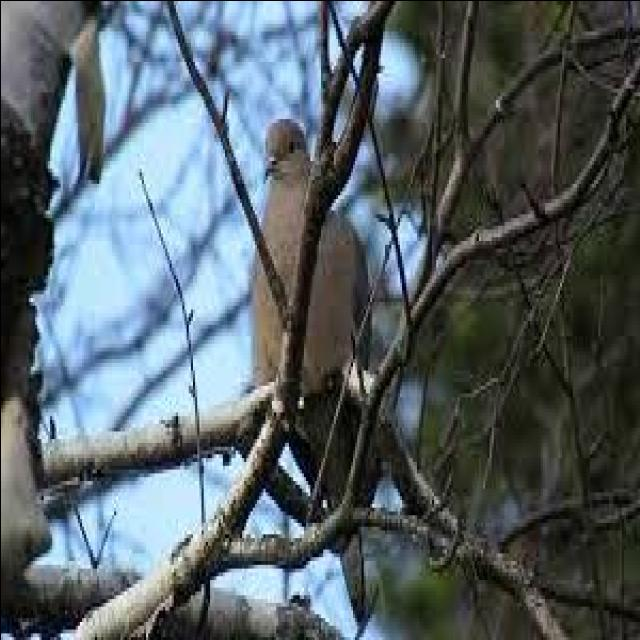pigeon: (235, 118, 390, 608)
